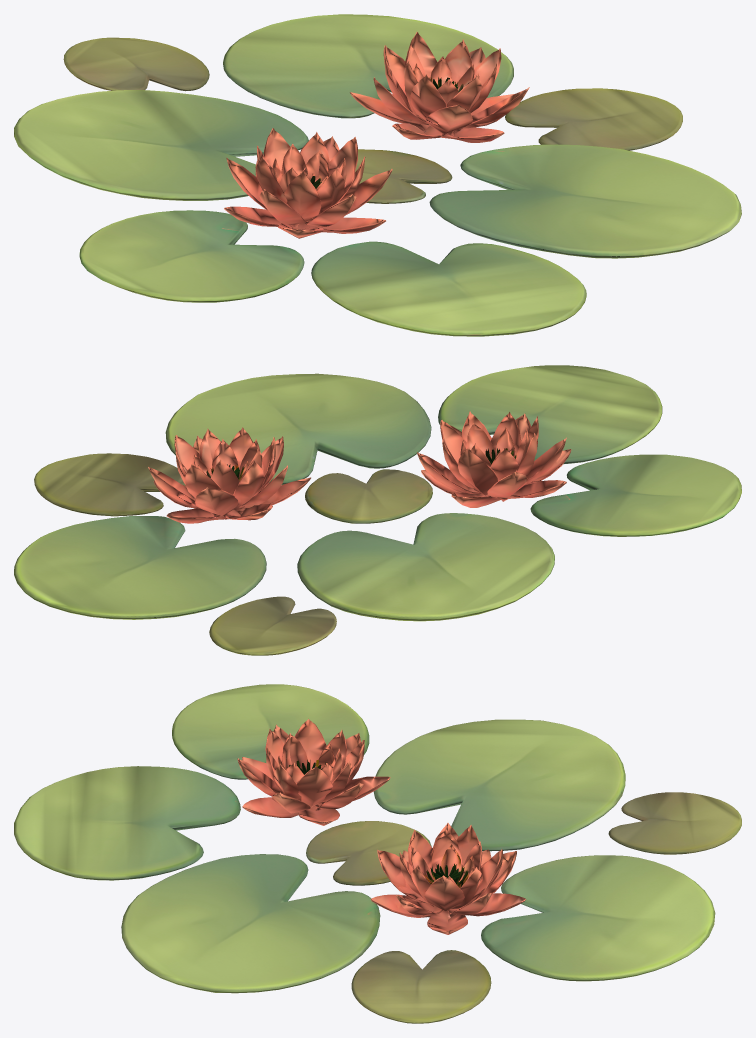
3 renders of one model, top to bottom at view 1: azimuth 30°, elevation 25°; view 2: azimuth 150°, elevation 25°; view 3: azimuth 270°, elevation 25°, orthographic. The views are drawn at different scales.
Visible parts, largest first — view 1: tripo_node_f4210d0a; view 2: tripo_node_f4210d0a; view 3: tripo_node_f4210d0a.
Boxes of the visible parts, x1,y1,x2,y2 form: tripo_node_f4210d0a: [14, 14, 741, 336]; tripo_node_f4210d0a: [14, 365, 741, 655]; tripo_node_f4210d0a: [14, 684, 741, 1023].
Size of the model in its own units: 0.939 by 0.1519 by 0.9995.
1 material, 1 textured.
